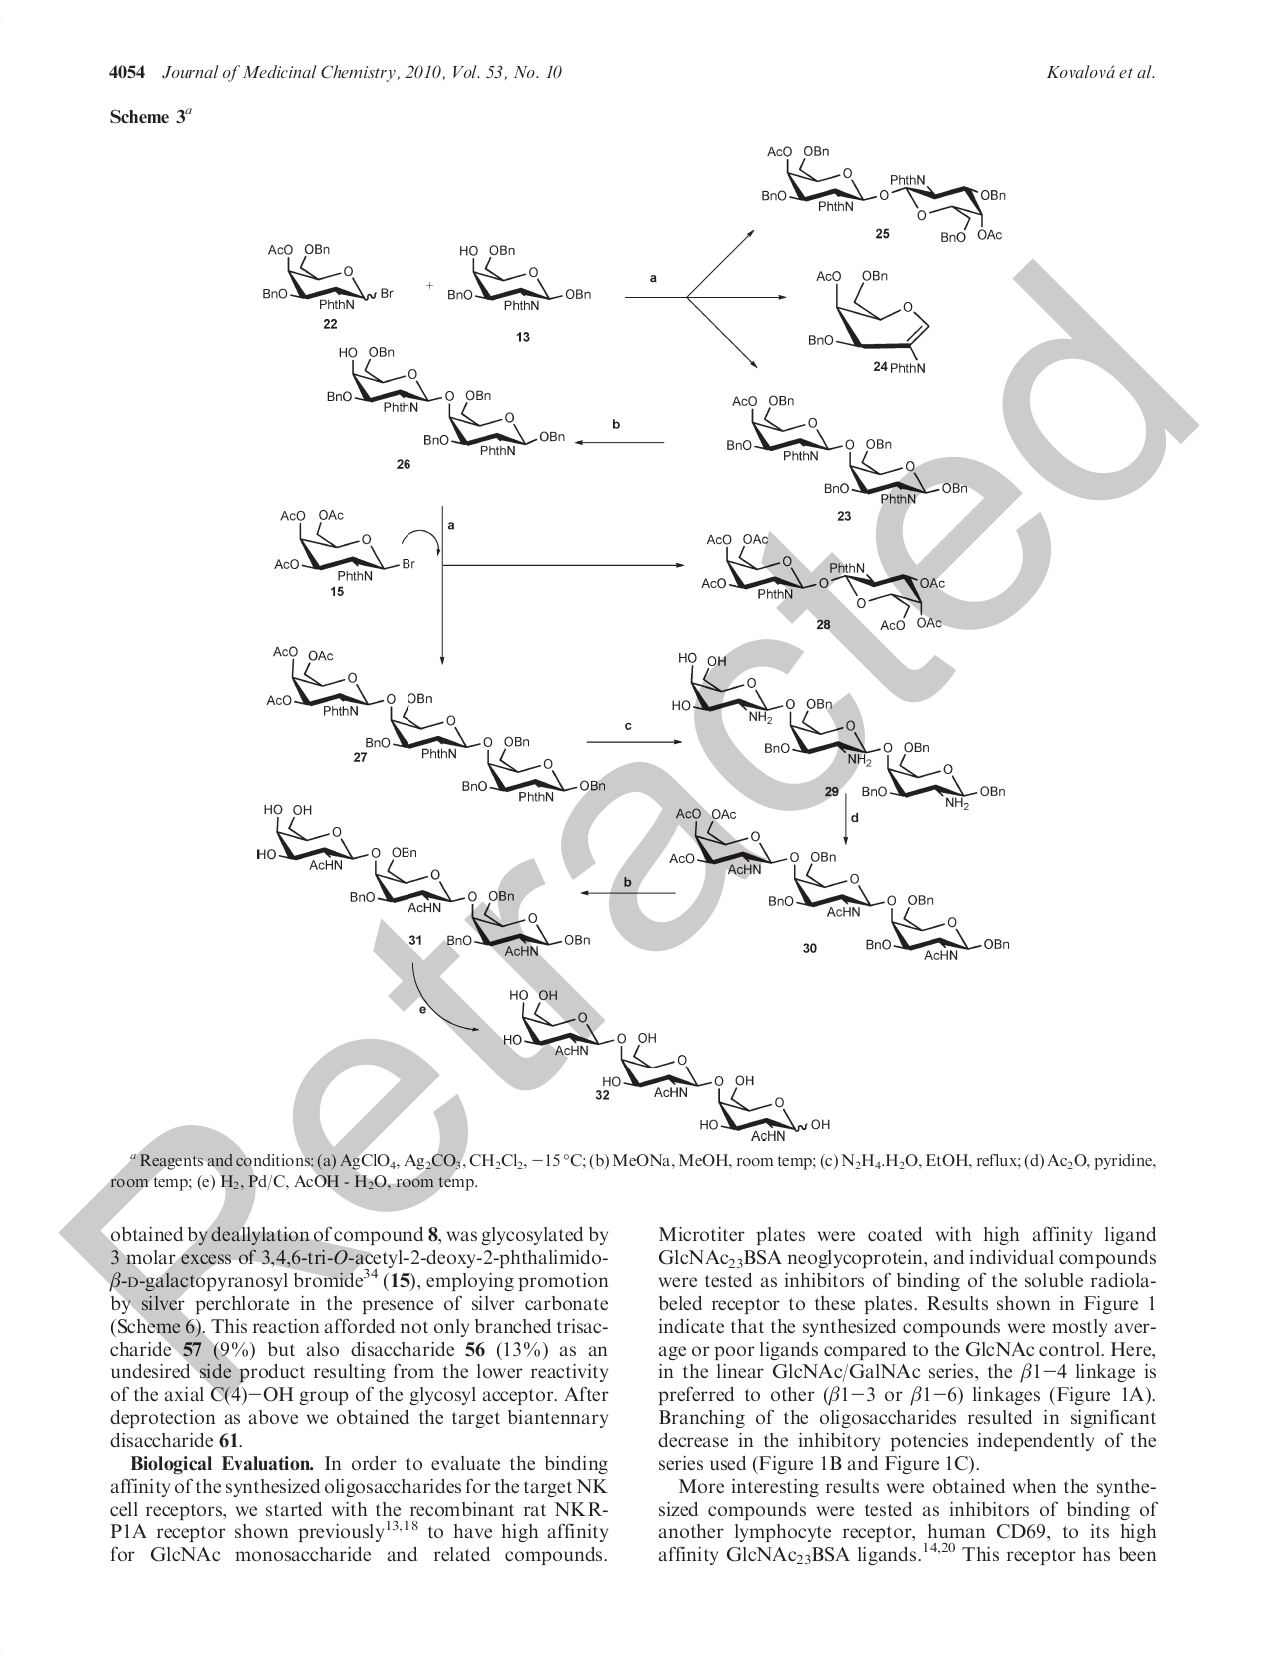exist_molecular: (648, 807, 1031, 967), (664, 642, 1005, 818), (495, 972, 836, 1146), (262, 638, 606, 805), (258, 798, 600, 958), (758, 132, 1019, 253), (723, 386, 973, 511), (327, 340, 567, 463), (699, 527, 949, 638), (795, 273, 946, 395), (430, 231, 602, 321), (274, 497, 423, 594), (255, 233, 400, 313)
